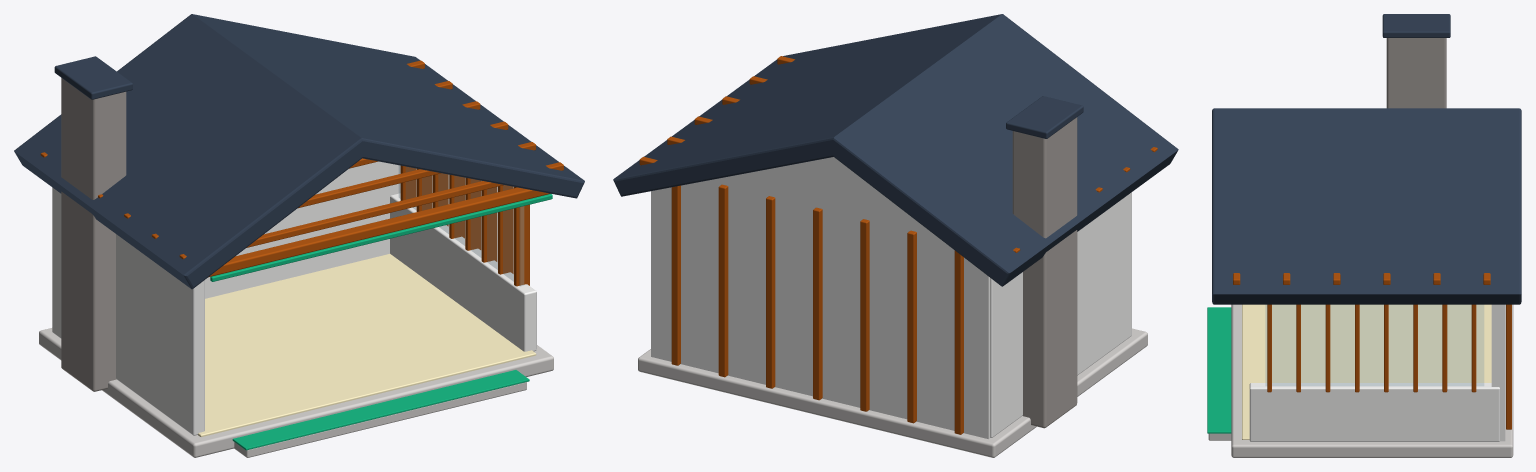
File: booth-living.glb
3 views of the same model, side by side, from view 1: azimuth 30°, elevation 25°; view 2: azimuth 150°, elevation 25°; view 3: azimuth 270°, elevation 25° (orthographic). The views are drawn at different scales.
Parts seen in each view (by area): view 1: BoothShellLiving; view 2: BoothShellLiving; view 3: BoothShellLiving.
Part boxes in pixels (x1=…): BoothShellLiving: x1=14, y1=14, x2=584, y2=457; BoothShellLiving: x1=613, y1=14, x2=1178, y2=457; BoothShellLiving: x1=1207, y1=14, x2=1521, y2=457.
Bounding box in the file's own units: 8.01 × 5.89 × 6.02.
